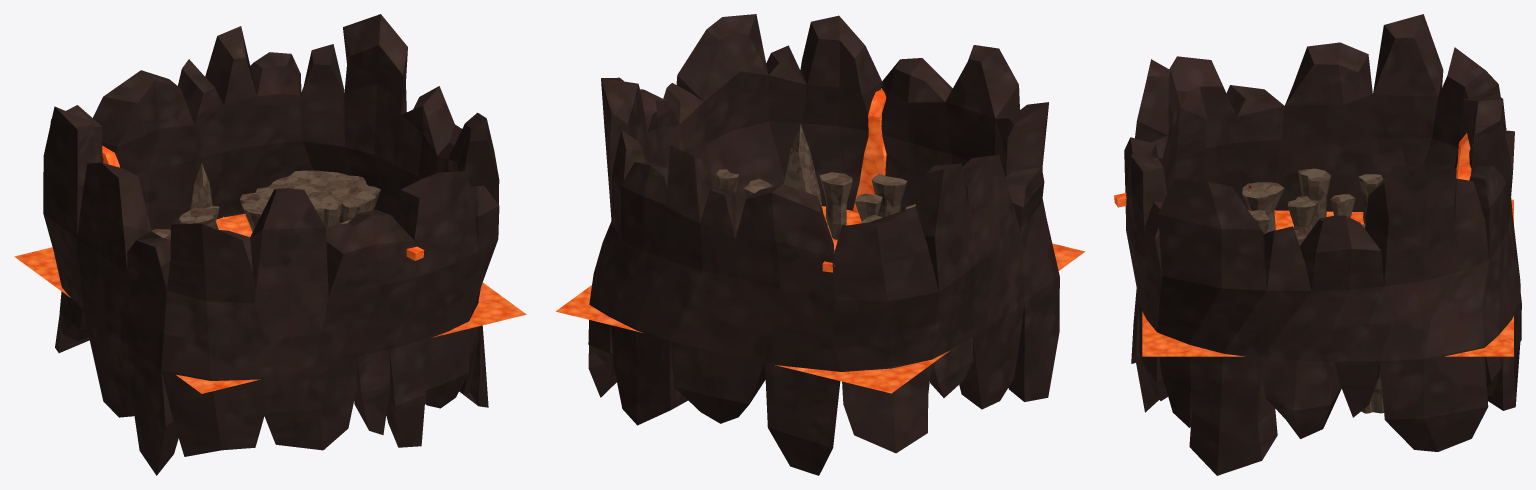
The model's file is level3.glb.
The picture shows the model from 3 angles, left to right: view 1: azimuth 30°, elevation 25°; view 2: azimuth 150°, elevation 25°; view 3: azimuth 270°, elevation 25°; orthographic projection. The views are drawn at different scales.
Parts seen in each view (by area): view 1: Plane.015, Plane.001, Plane.016, Plane.017, Plane.002; view 2: Plane.015, Plane.016, Cube.001, Plane.018, Plane.008, Plane.009, Plane.010; view 3: Plane.015, Plane.016, Plane.013, Plane.012, Plane.011, Cube, Plane.003, Plane.014, Plane.001.
Boxes of the visible parts, box(x1,y1,x2,y2) form: Plane.015: box(43, 14, 499, 475); Plane.001: box(240, 170, 380, 231); Plane.016: box(14, 214, 526, 393); Plane.017: box(190, 163, 218, 229); Plane.002: box(179, 206, 219, 228); Plane.015: box(588, 14, 1059, 475); Plane.016: box(556, 206, 1085, 393); Cube.001: box(852, 88, 886, 212); Plane.018: box(784, 124, 822, 211); Plane.008: box(819, 172, 852, 239); Plane.009: box(871, 174, 907, 217); Plane.010: box(854, 193, 882, 221); Plane.015: box(1124, 14, 1521, 475); Plane.016: box(1142, 199, 1513, 356); Plane.013: box(1242, 182, 1284, 232); Plane.012: box(1298, 168, 1331, 228); Plane.011: box(1287, 196, 1318, 234); Cube: box(1456, 128, 1506, 180); Plane.003: box(1358, 174, 1383, 223); Plane.014: box(1330, 194, 1355, 217); Plane.001: box(1361, 223, 1383, 413).
Size of the model in its own units: 847 by 720 by 852.
Materials: 23 (20 with a texture image).
